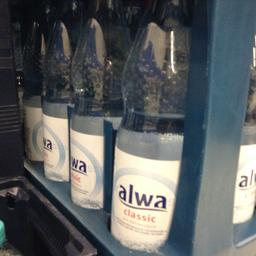water: (108, 0, 190, 250), (68, 0, 130, 209), (42, 2, 68, 183)
